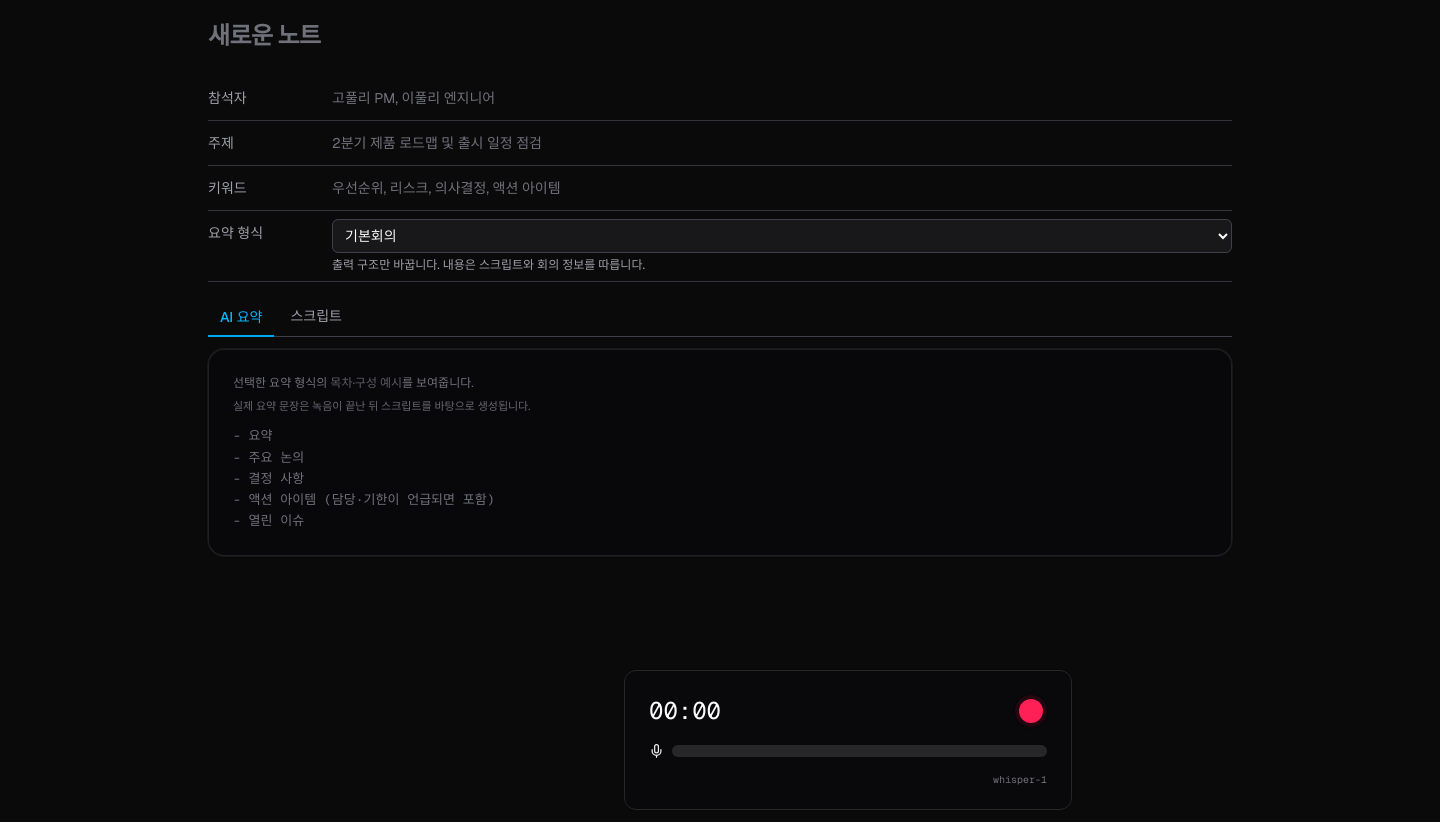
Test: Recorder: 마이크 권한 거부 후 재시도 › 거부 시 권한 안내가 보이고, 다시 시작하면 녹음 중지가 나타난다
The image size is (1440, 822).
Click the button named "녹음 시작" at (1031, 711), box [1015,695,1047,727]
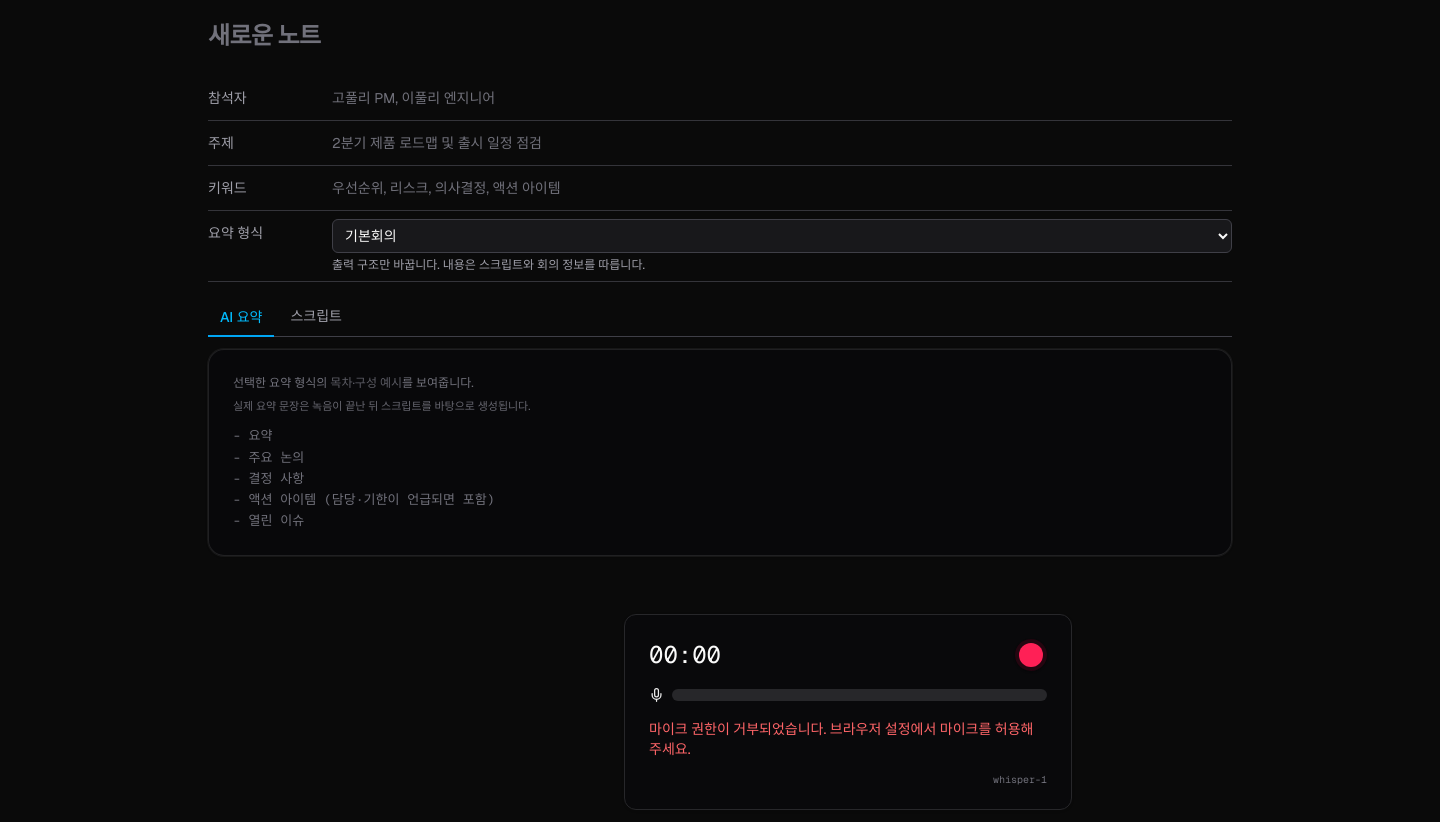
Result: the text "마이크 권한이 거부되었습니다. 브라우저 설정에서 마이크를 허용해 주세요." is shown at [649,719,1047,759]
Click the button named "녹음 시작" at (1031, 655), box [1015,639,1047,671]
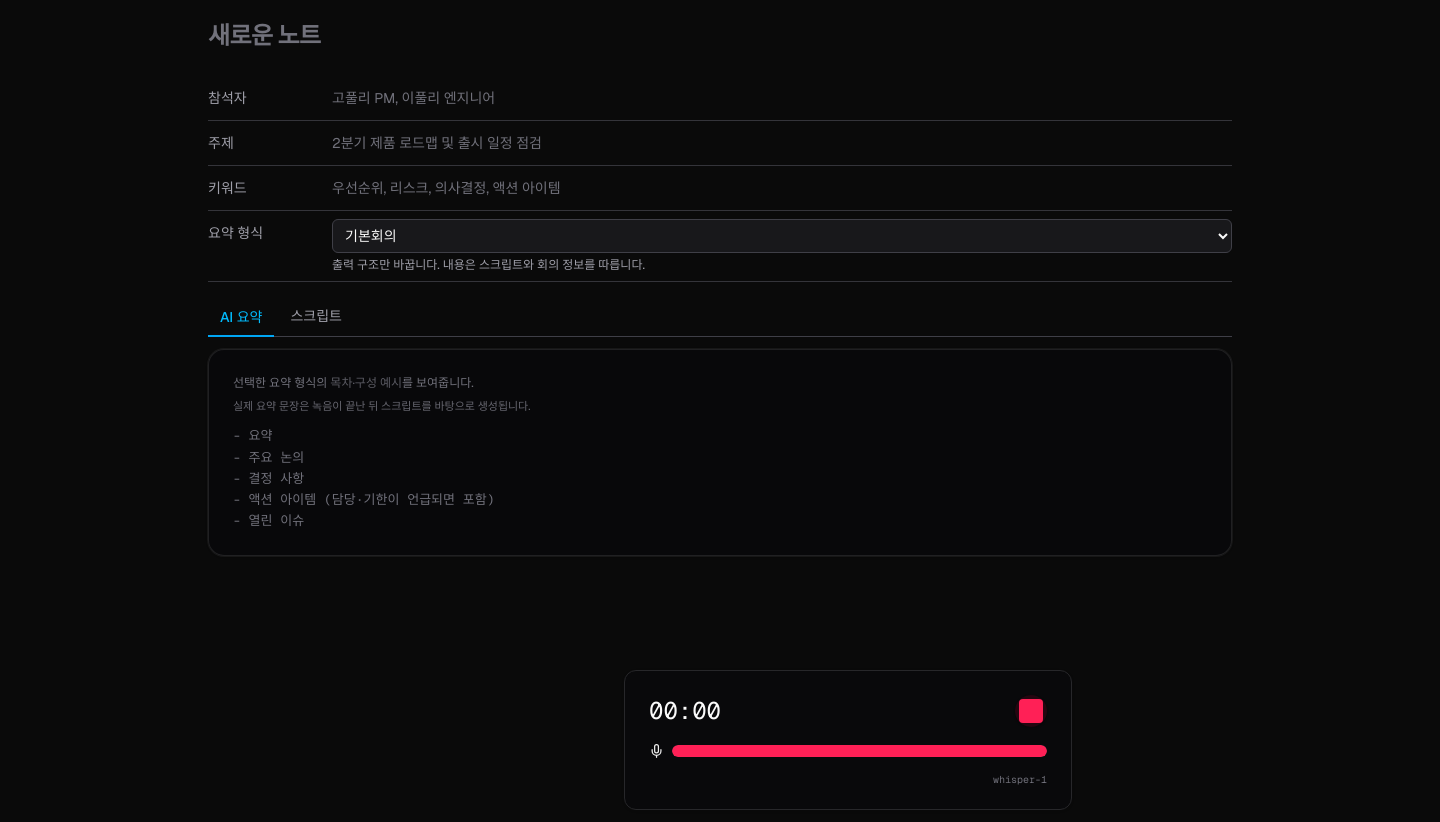
Result: the button named "녹음 중지" is shown at [1015,695,1047,727]
